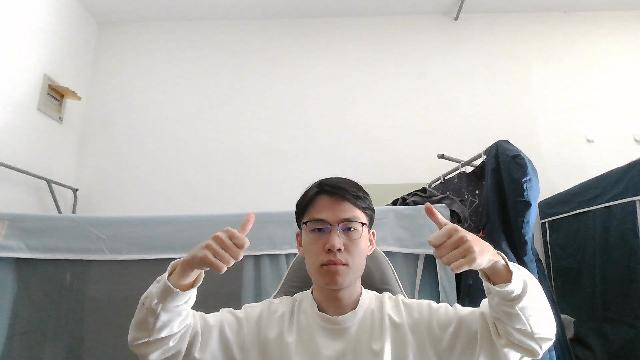good: (167, 208, 258, 291), (421, 200, 497, 274)
